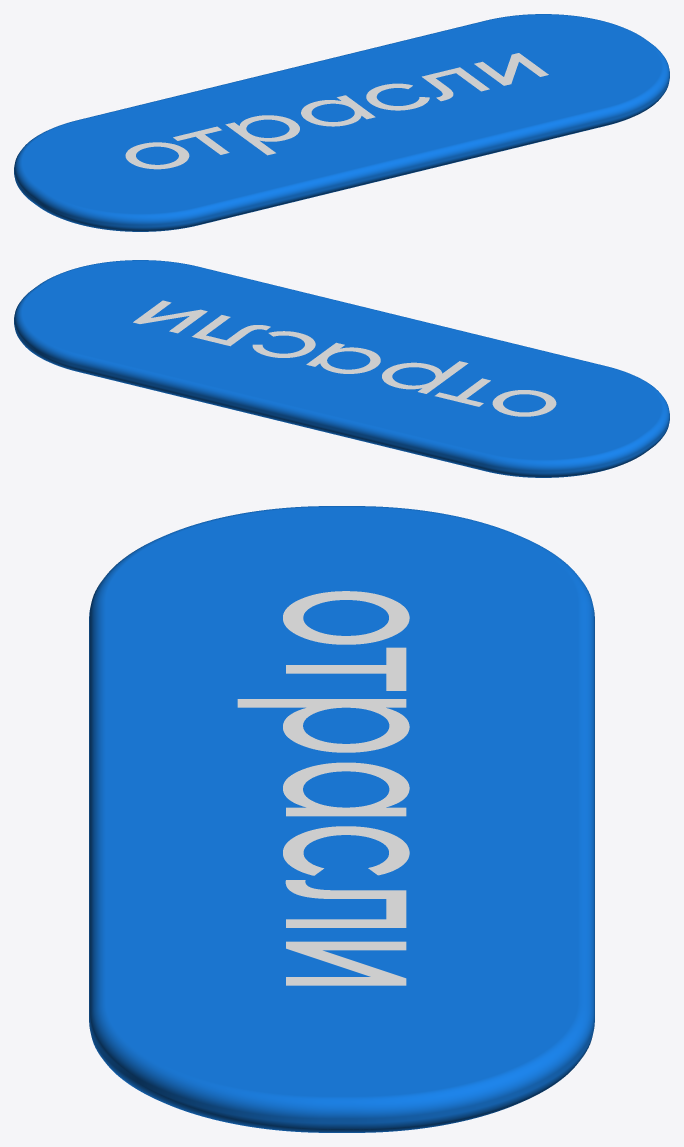
The model's file is directions.glb.
3 renders of one model, top to bottom at view 1: azimuth 30°, elevation 25°; view 2: azimuth 150°, elevation 25°; view 3: azimuth 270°, elevation 25°, orthographic. The views are drawn at different scales.
Parts seen in each view (by area): view 1: Text 2; view 2: Text 2; view 3: Text 2.
Boxes of the visible parts, bbox=[...] form: Text 2: bbox=[14, 14, 669, 231]; Text 2: bbox=[14, 260, 669, 477]; Text 2: bbox=[89, 506, 594, 1132].
Size of the model in its own units: 5.91 by 0.1824 by 2.09.
